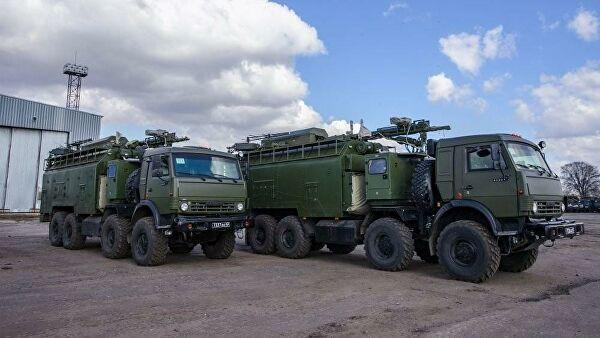truck: (239, 124, 591, 283), (32, 136, 255, 269)
